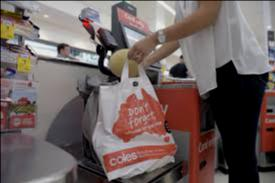Plastic: (81, 74, 178, 180)
